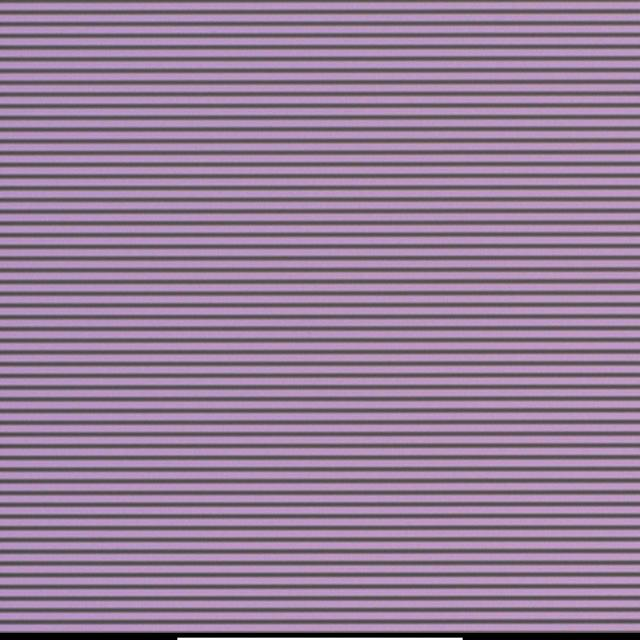nonvisual: (340, 265, 348, 274)
